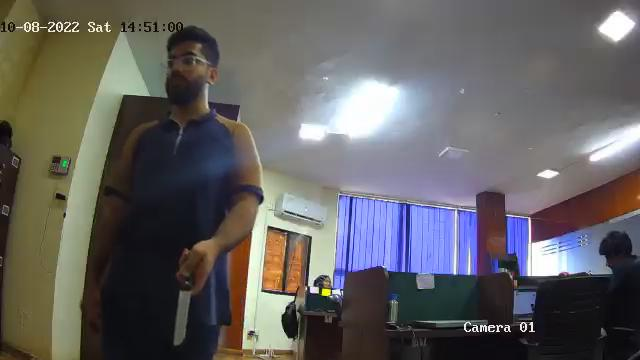knives: (172, 248, 200, 350)
